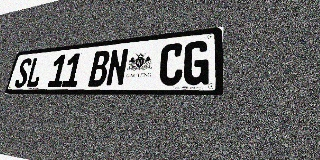1: (61, 53, 83, 87), (47, 54, 68, 87)
B: (88, 50, 111, 87)
C: (158, 43, 184, 86)
G: (182, 40, 210, 85)
L: (25, 57, 45, 88)
N: (105, 48, 129, 86)
S: (13, 58, 33, 88)
